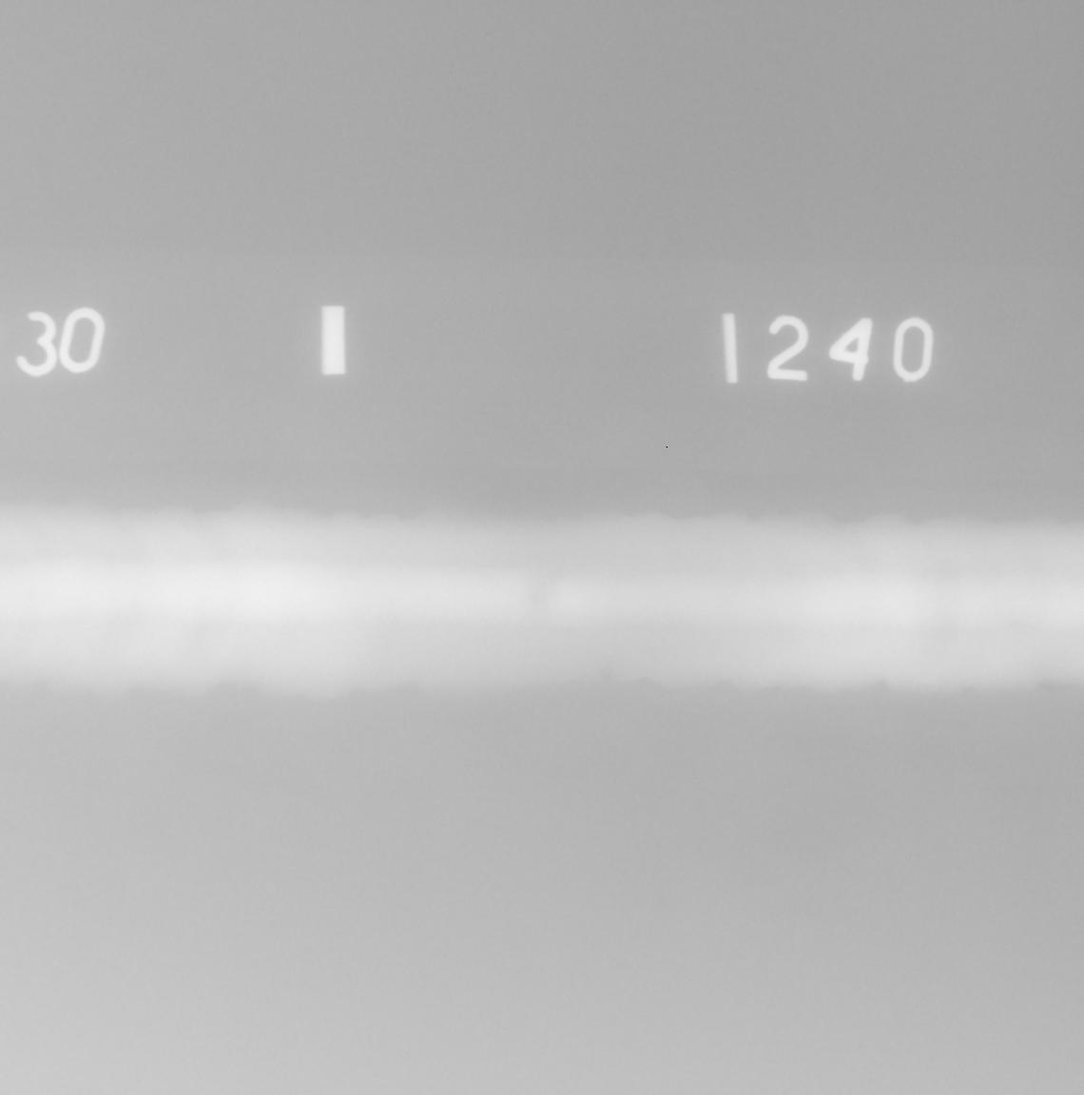Inclusion: (530, 596, 545, 602)
